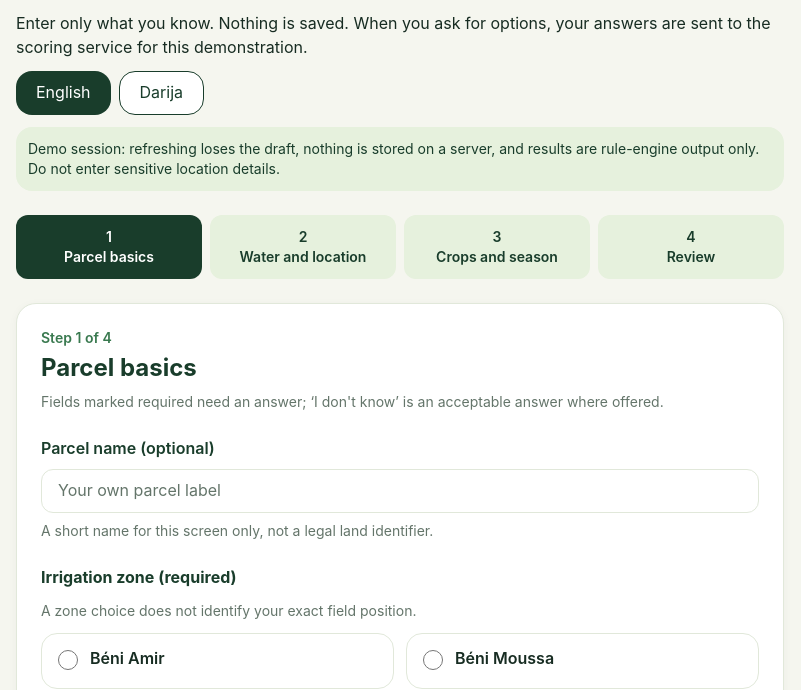
Test: M2 guided parcel form › offers the validated crop vocabulary with an explicit not-declared choice
Click the radio button labelled "Béni Amir".
click(68, 660)  # box [58,650,78,670]
(page scrolled)
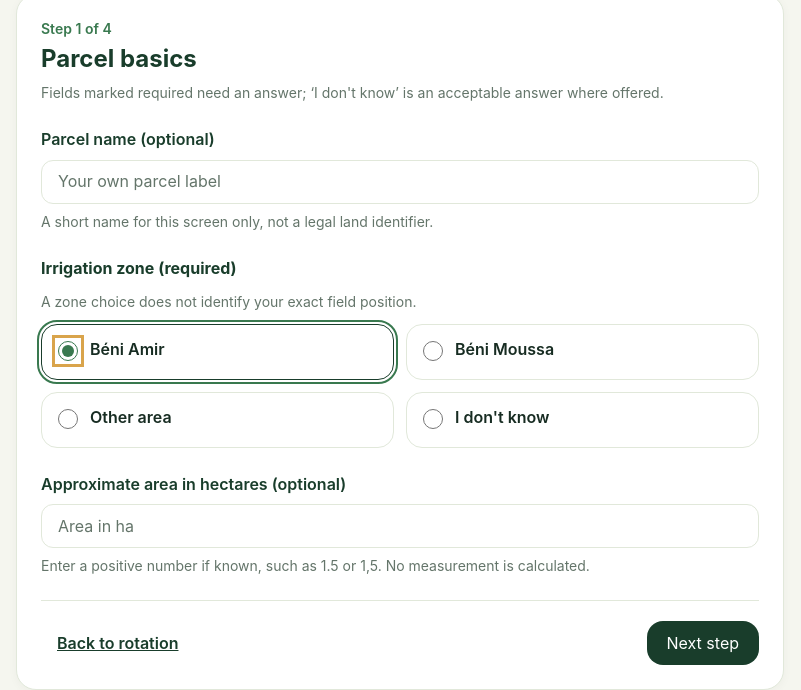
Click the button "Next step".
click(703, 643)  # box [646,621,759,665]
(page scrolled)
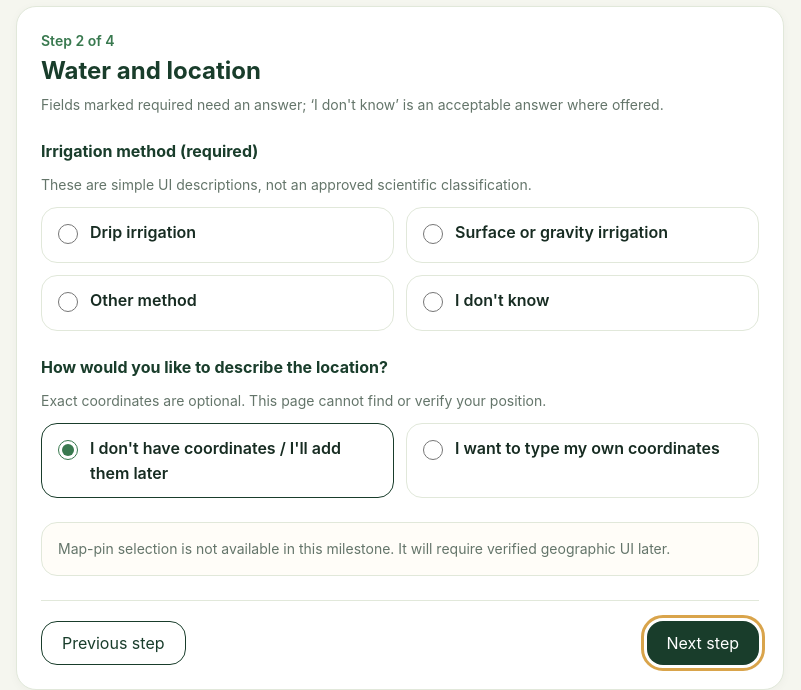
Click the radio button labelled "I don't know".
click(433, 302)  # box [423,292,443,312]
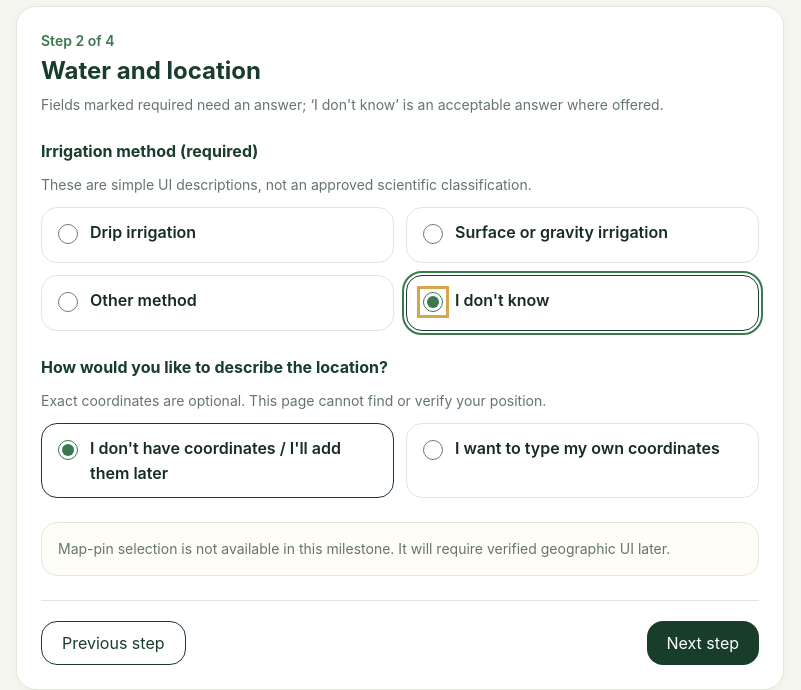
Click the button "Next step".
click(703, 643)  # box [646,621,759,665]
(page scrolled)
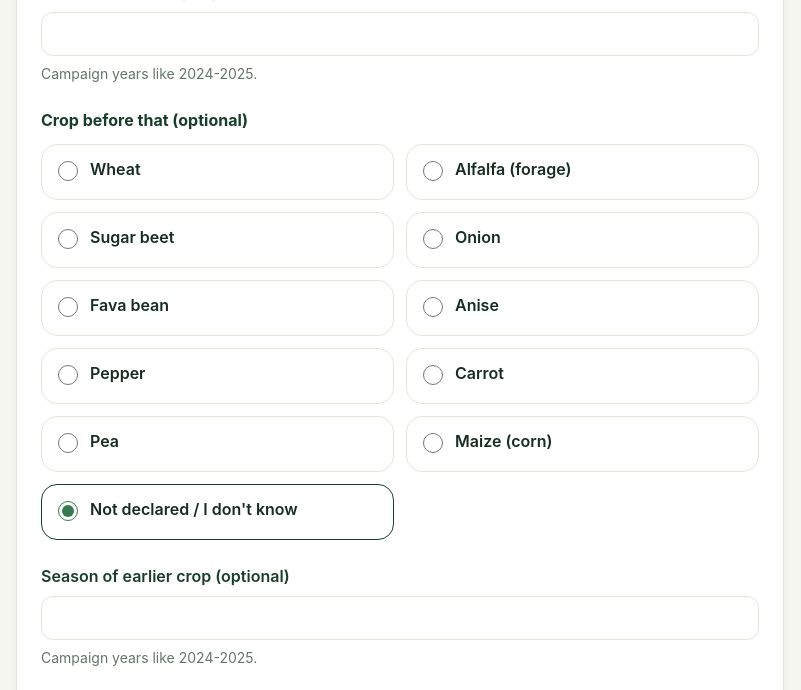
expect the radio button labelled "Fava bean" is shown: met, box [58,297,78,317]
